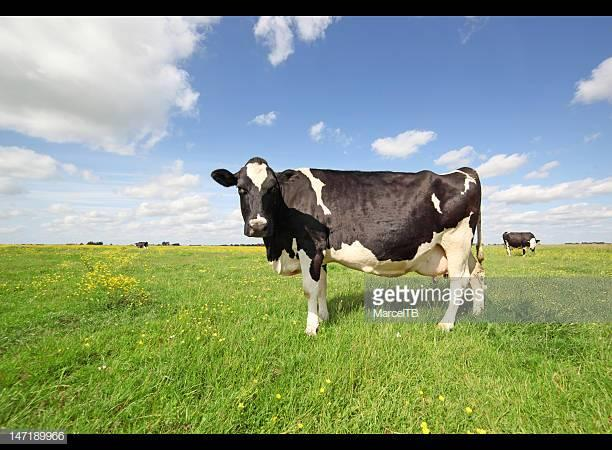cow: (211, 157, 482, 334)
